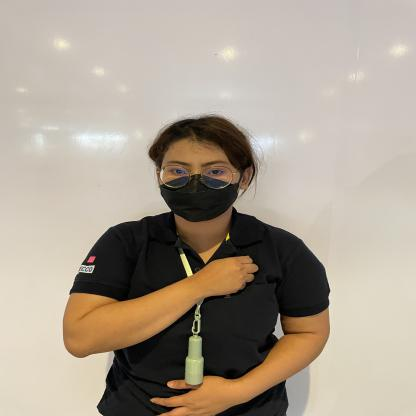Sadness: (130, 244, 286, 311)
